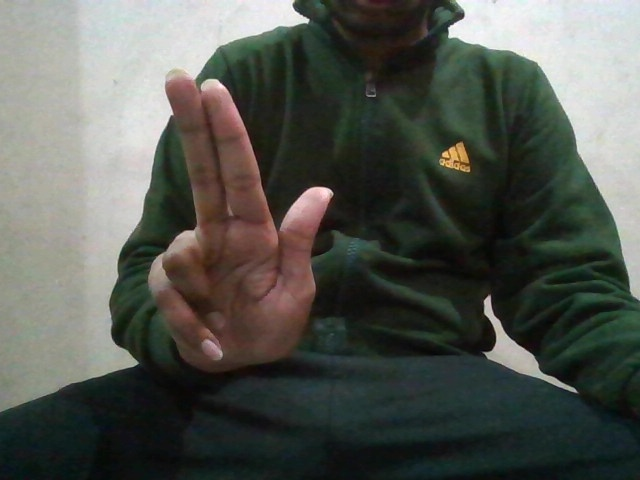K: (146, 67, 348, 370)
